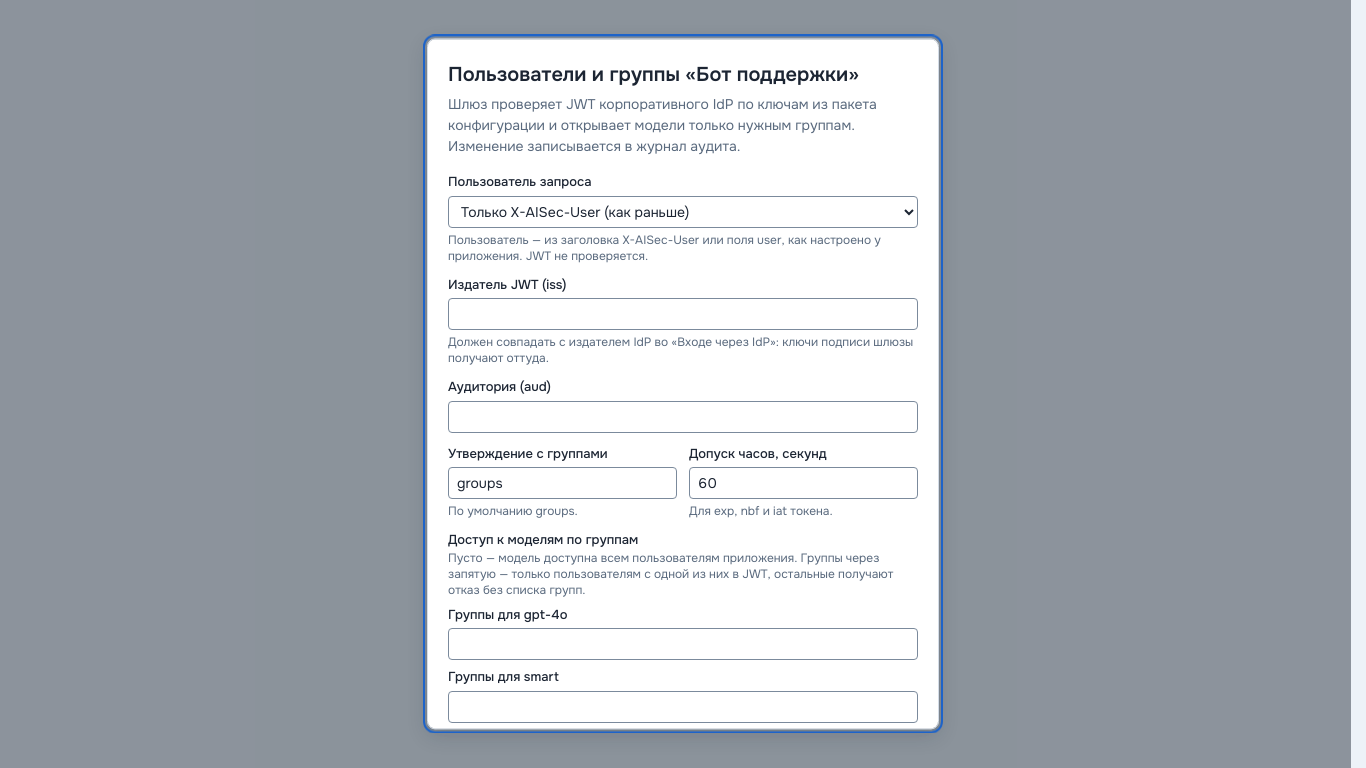
Test case: пользователи и группы приложения › группы без JWT не отправляются
Step 1. Type "a" into the field labelled "Группы для gpt-4o" → (683, 645), box [448, 629, 918, 661]
(page scrolled)
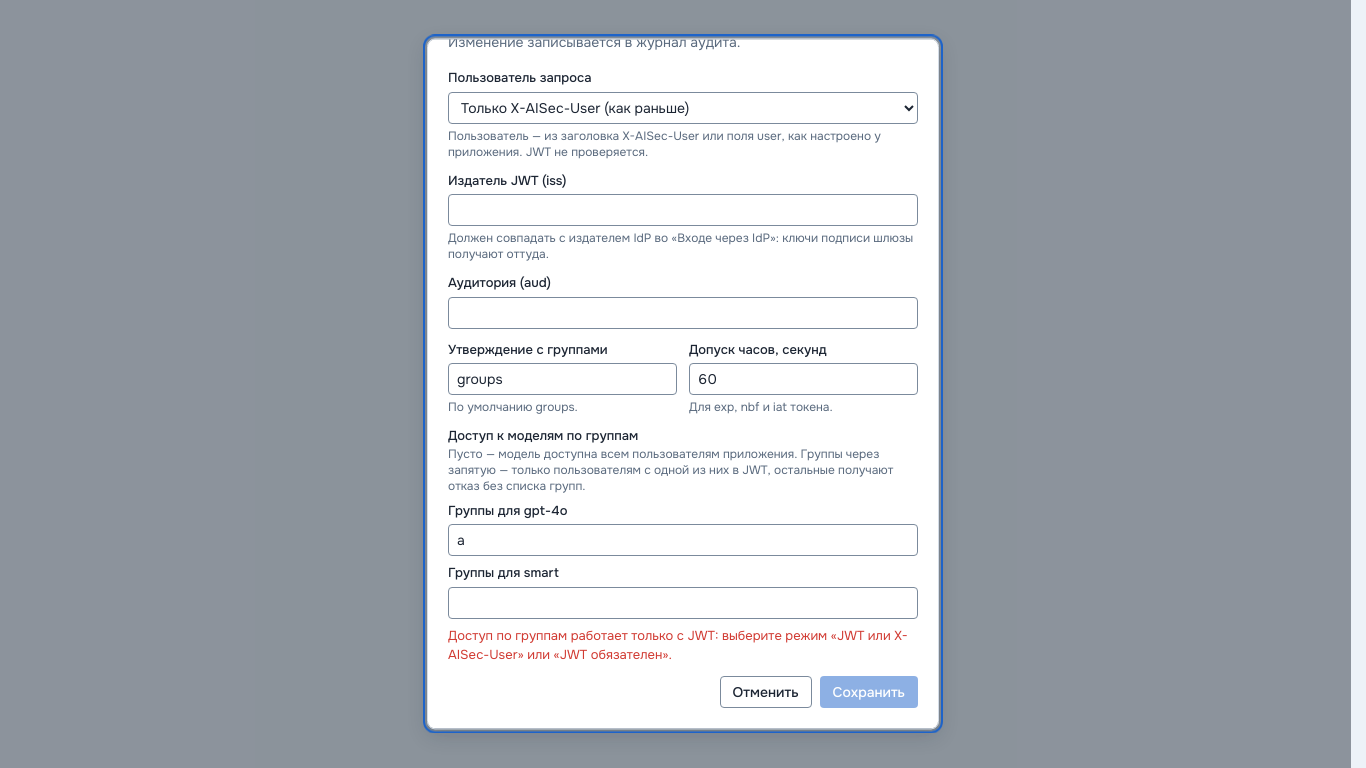
Expected: the text "работает только с JWT" is shown, [448, 628, 908, 663]
Expected: the button "Сохранить" is disabled, [820, 677, 918, 709]
